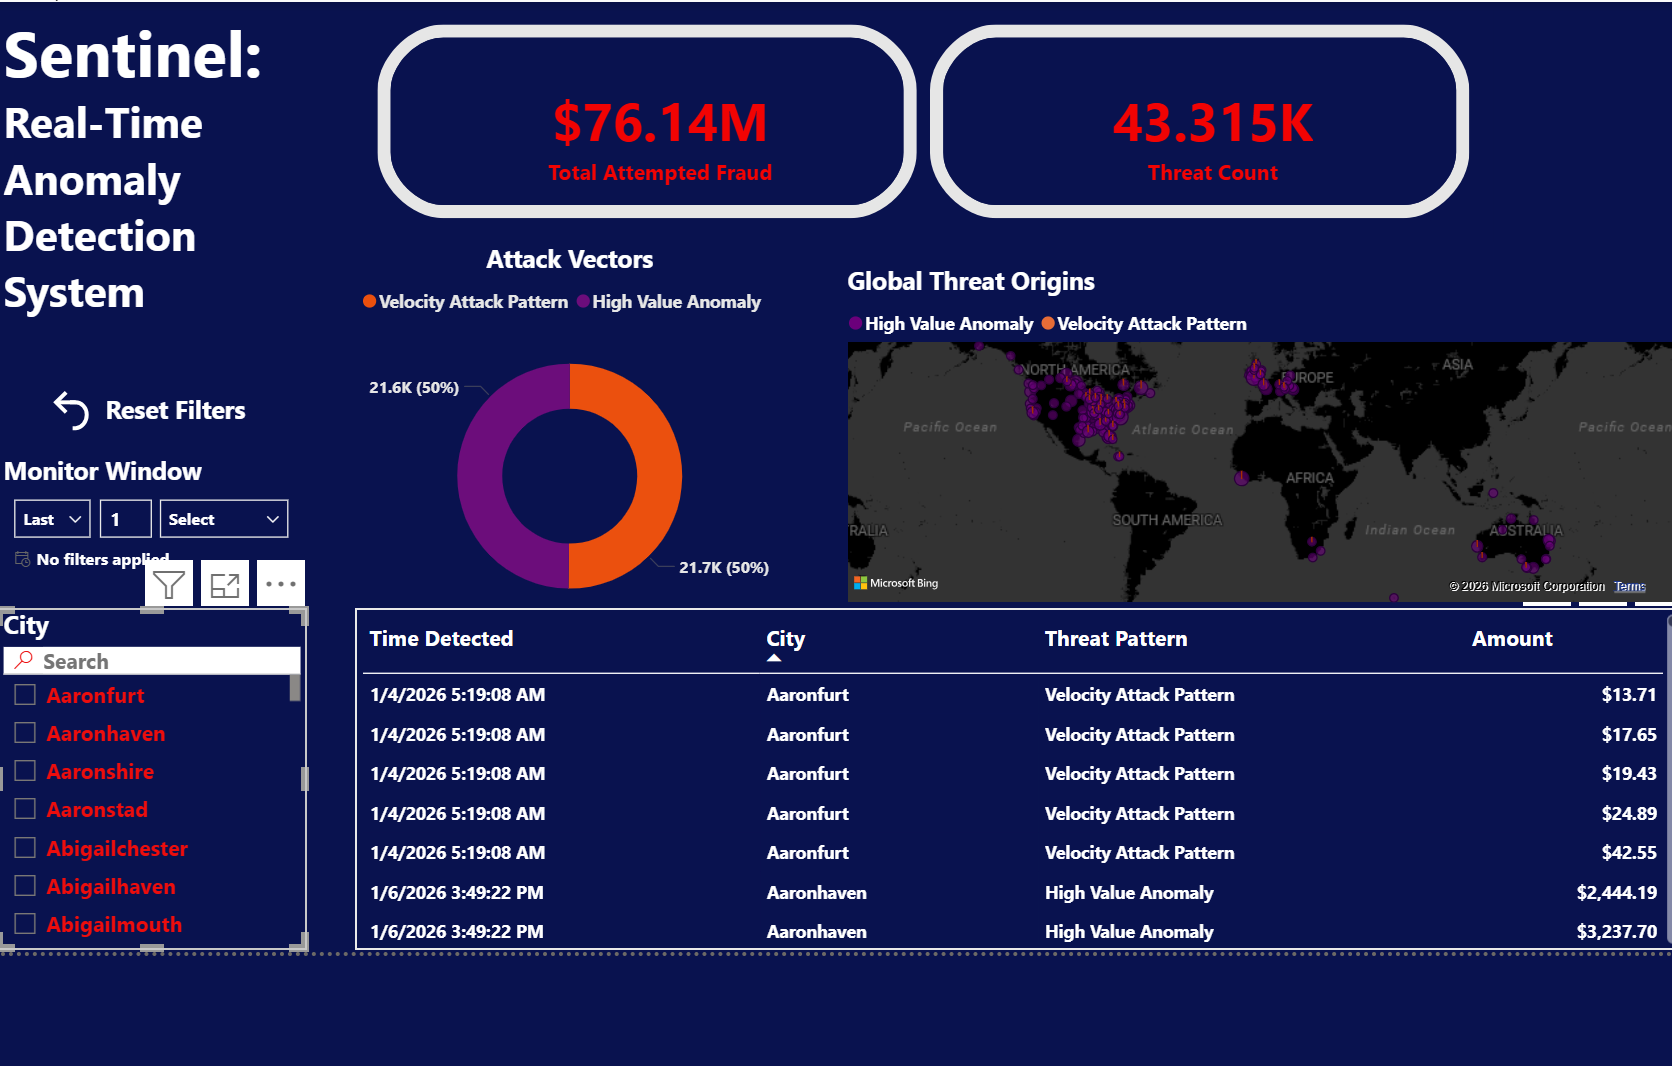

What the dashboard file says about the page in this screenshot:
{"tool":"powerbi","page":{"name":"Page 1","canvas":[1280,720],"ordinal":0},"visuals":[{"type":"cardVisual","fields":{"Data":["Sum(fraud_risk_alerts.amount)","CountNonNull(fraud_risk_alerts.transaction_id)"]},"box":[271.5,0,862.9,182],"z":0},{"type":"donutChart","title":"Attack Vectors ","fields":{"Category":["fraud_risk_alerts.risk_type"],"Y":["CountNonNull(fraud_risk_alerts.transaction_id)"]},"box":[270.8,181.8,325.7,301.1],"z":1000},{"type":"tableEx","fields":{"Values":["fraud_risk_alerts.timestamp.1","fraud_risk_alerts.city","fraud_risk_alerts.risk_type","fraud_risk_alerts.amount"]},"box":[270.8,460.1,1009.2,259.4],"z":2000},{"type":"map","title":"Global Threat Origins","fields":{"Category":["fraud_risk_alerts.city"],"Series":["fraud_risk_alerts.risk_type"],"Size":["Sum(fraud_risk_alerts.amount)"]},"box":[640,198.8,640,261.3],"z":3000},{"type":"textbox","box":[0,0,235,430],"z":4000},{"type":"slicer","title":"Monitor Window","fields":{"Values":["fraud_risk_alerts.timestamp.1"]},"box":[0,343.3,235,101.7],"z":5000},{"type":"slicer","title":"City","fields":{"Values":["fraud_risk_alerts.city"]},"box":[0,460,235,259],"z":6000},{"type":"actionButton","box":[36.7,290,40,40],"z":7000},{"type":"textbox","box":[76.7,291.7,136.7,40],"z":8000}]}

Visuals, with their boxes on the page's 1280x720 design canvas (x1, y1, x2, y2). These are canvas units, not pixel positions in the 1672x1066 screenshot, which may show the page scaled, cropped or inside an application window:
cardVisual - Sum(fraud_risk_alerts.amount) x CountNonNull(fraud_risk_alerts.transaction_id): 272/0/1134/182
"Attack Vectors " donutChart: 271/182/596/483
tableEx - fraud_risk_alerts.timestamp.1 x fraud_risk_alerts.city: 271/460/1280/720
"Global Threat Origins" map: 640/199/1280/460
textbox: 0/0/235/430
"Monitor Window" slicer: 0/343/235/445
"City" slicer: 0/460/235/719
actionButton: 37/290/77/330
textbox: 77/292/213/332
